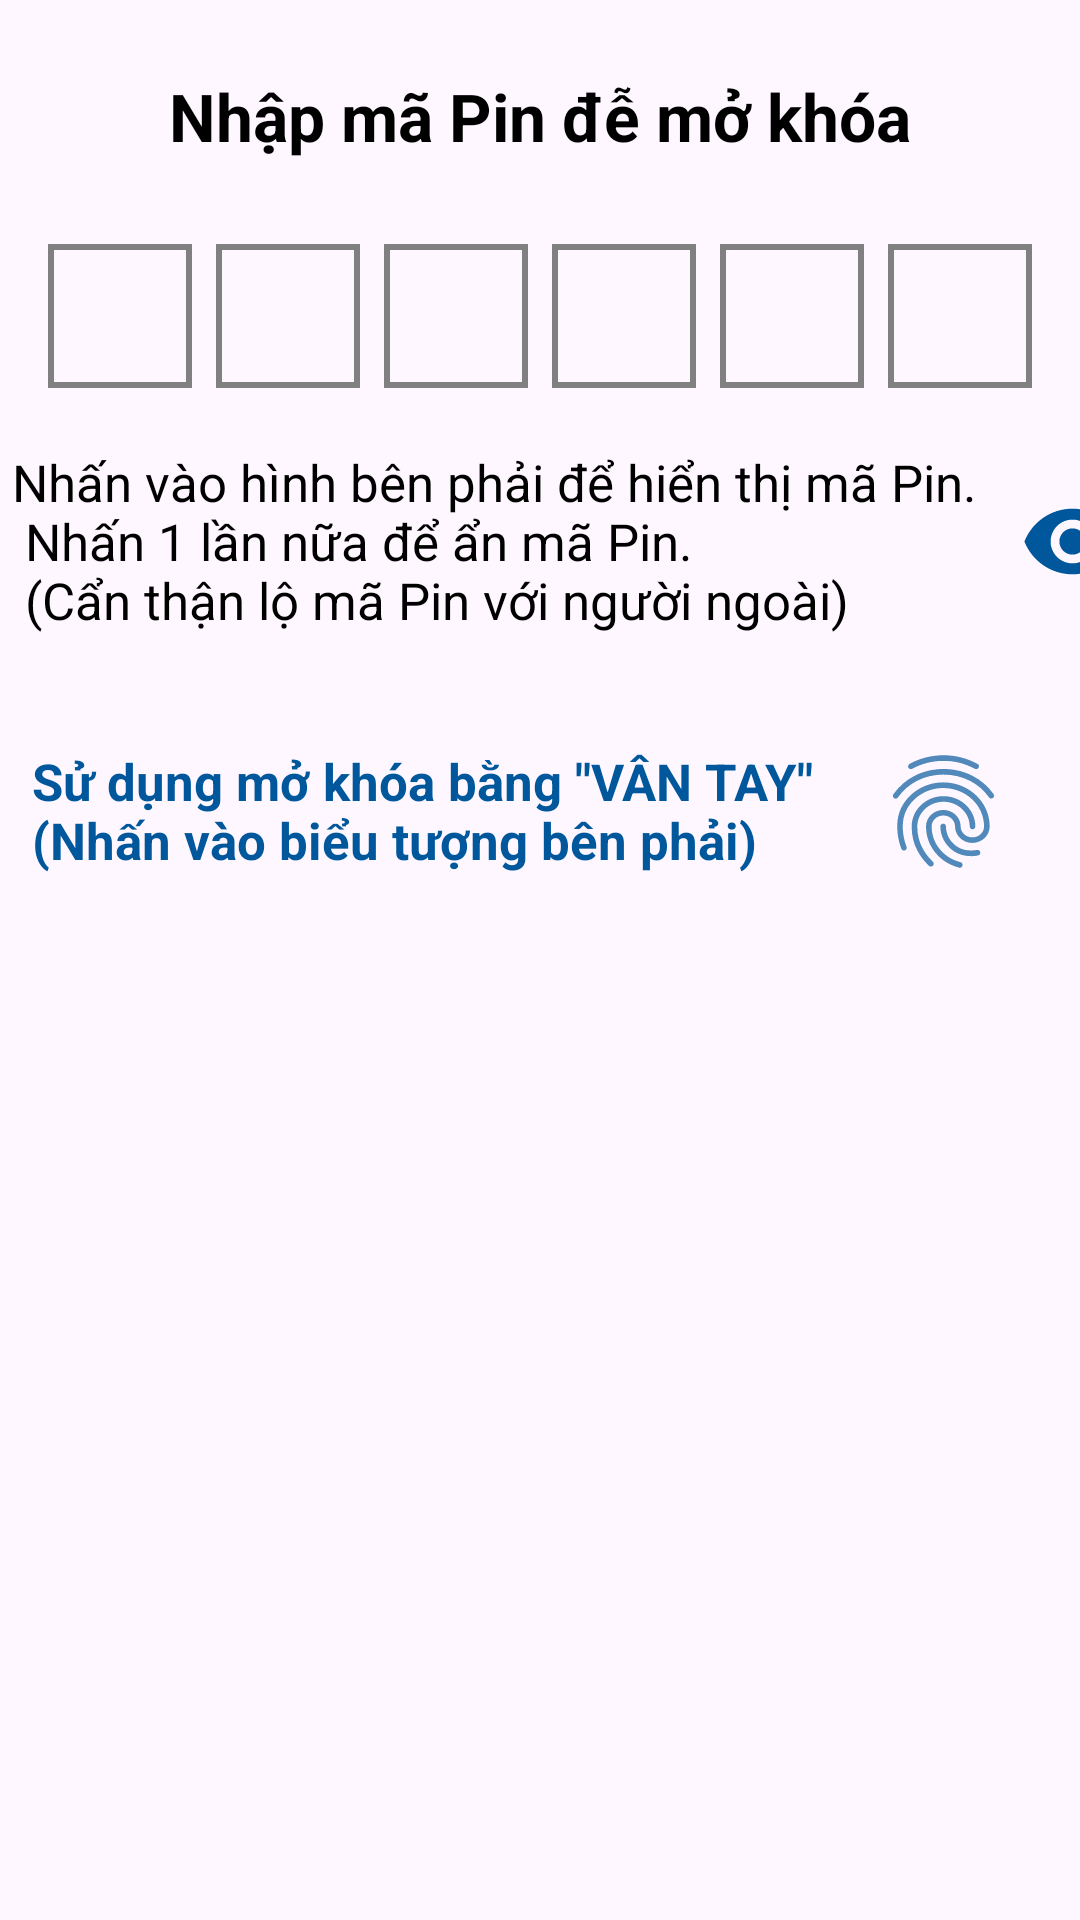

Where icons sit on this 1080px x 1920px app screen, as bbox(x1, y1, x2, y2):
fingerprint: bbox(893, 755, 994, 868)
